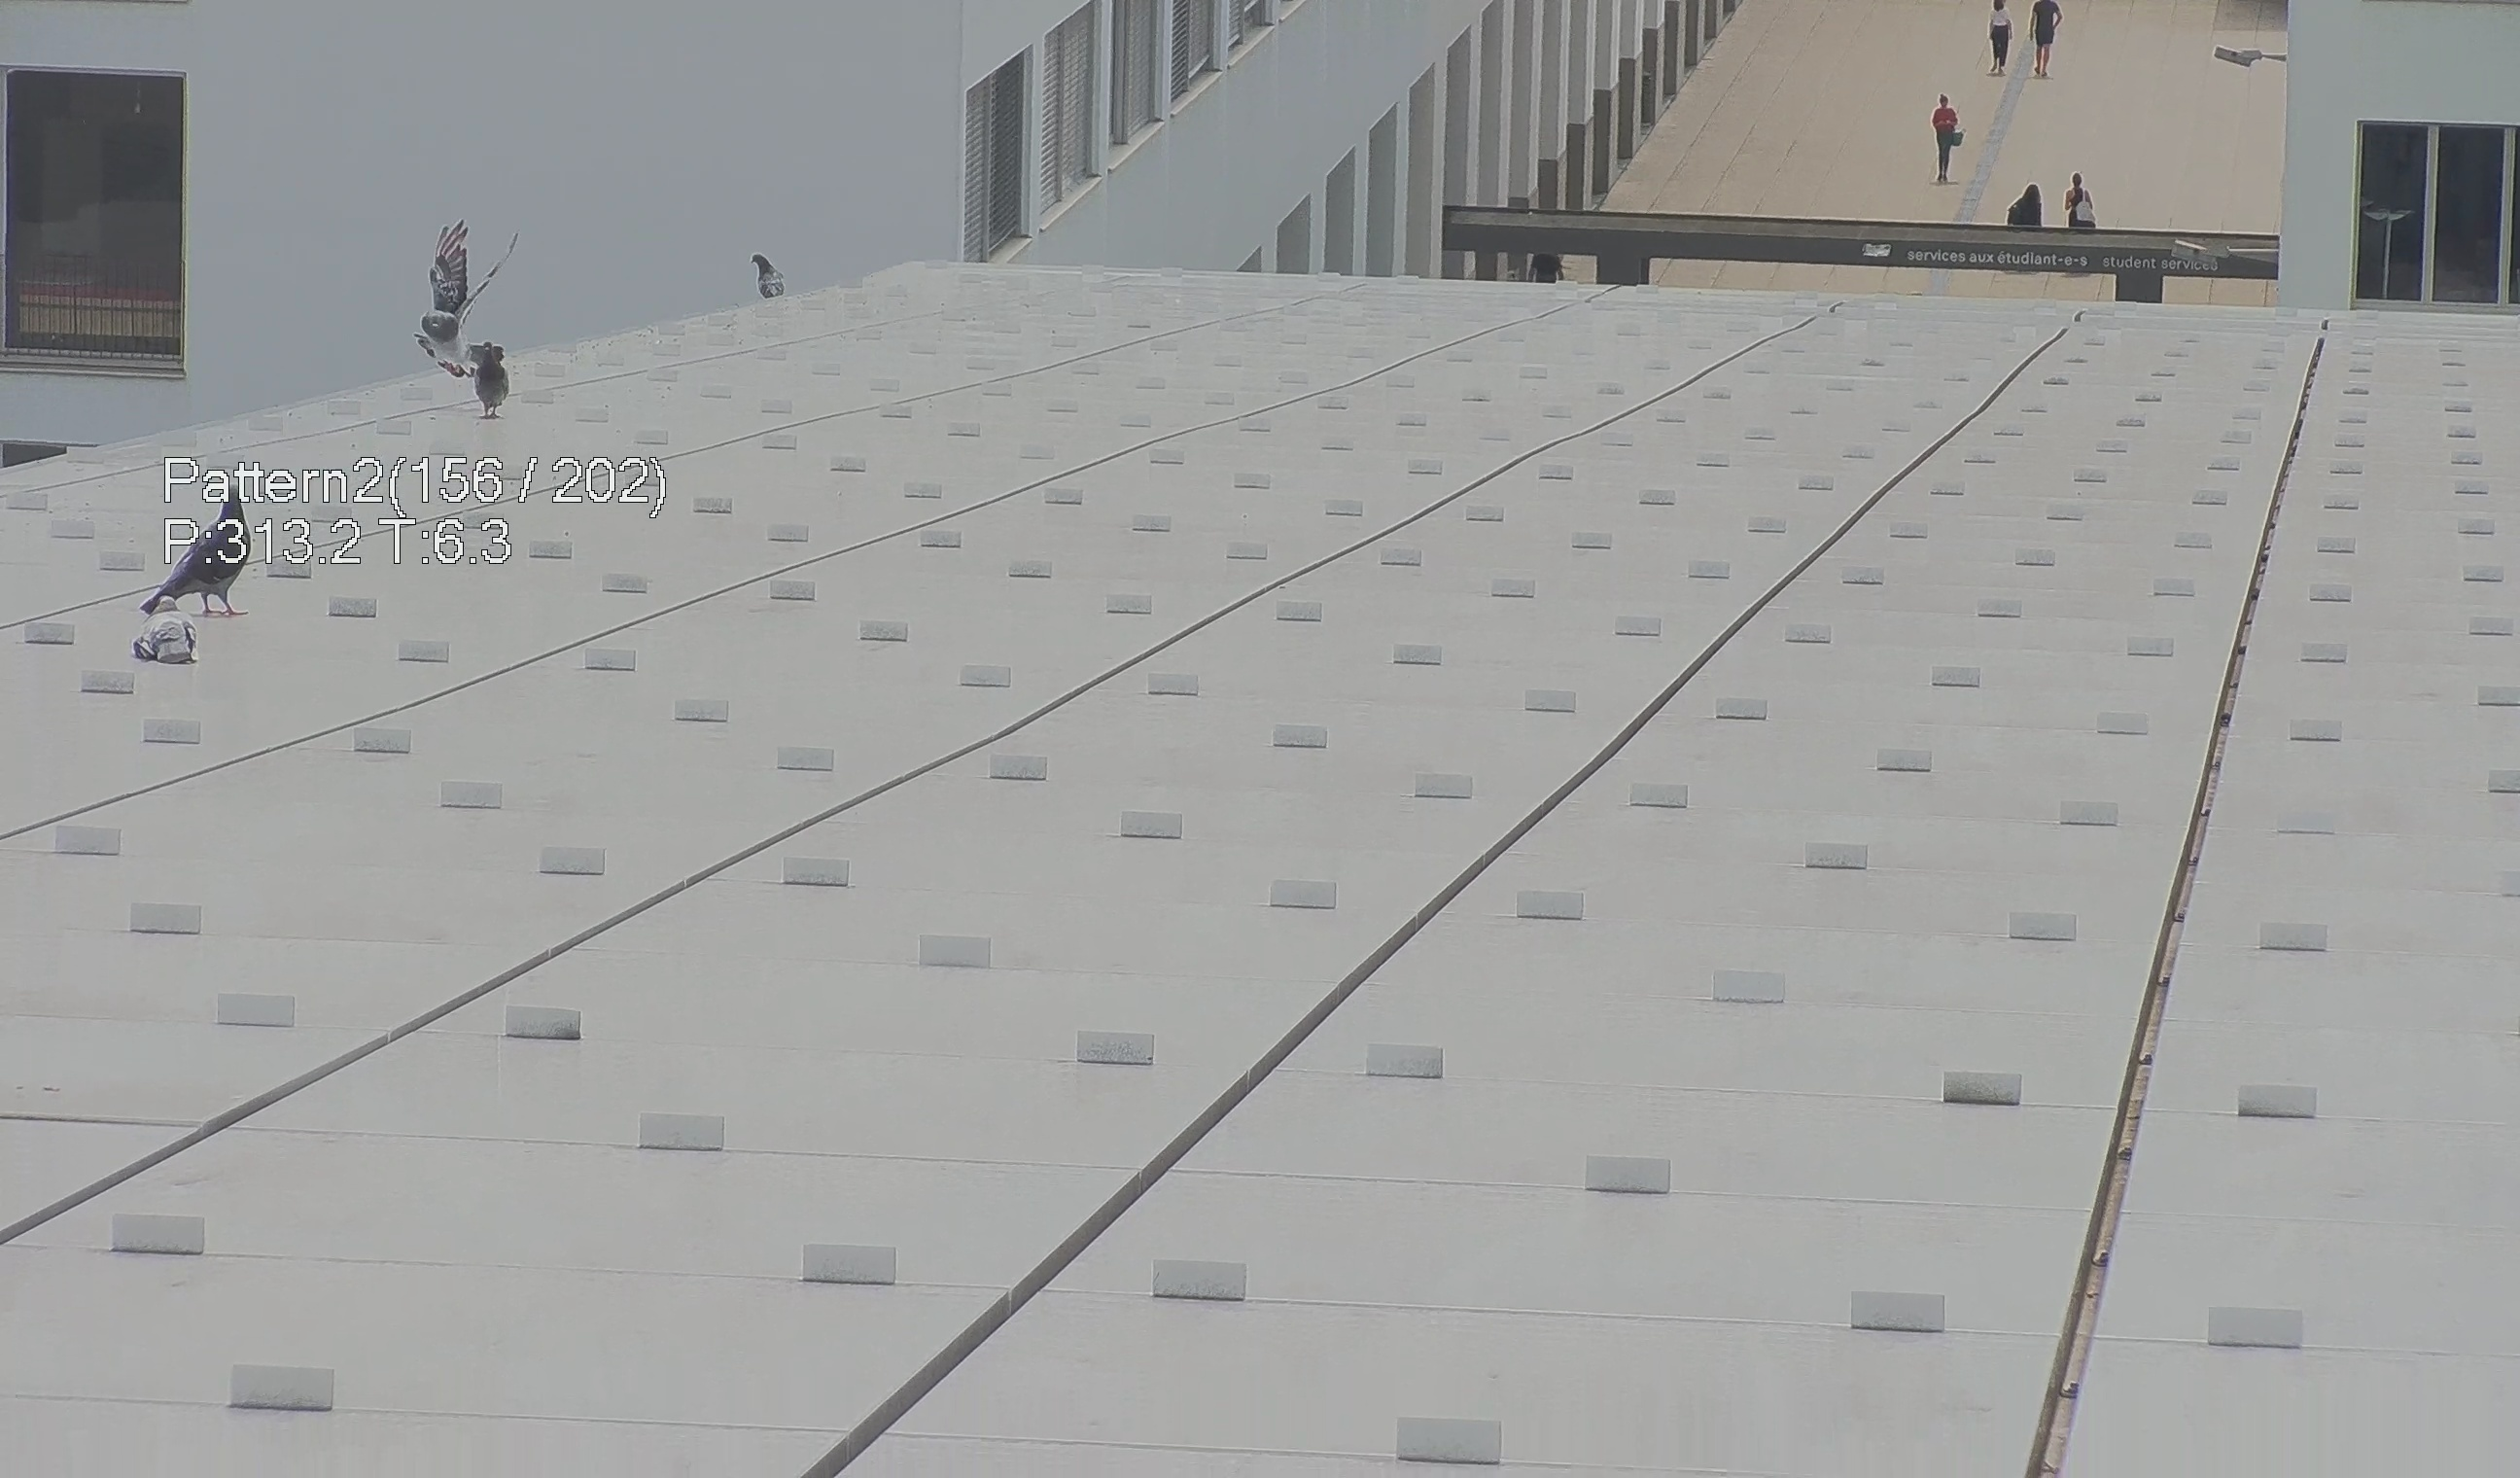Pigeon: (412, 218, 529, 380), (148, 500, 262, 639), (130, 589, 208, 676), (466, 333, 513, 415), (749, 246, 793, 311)
